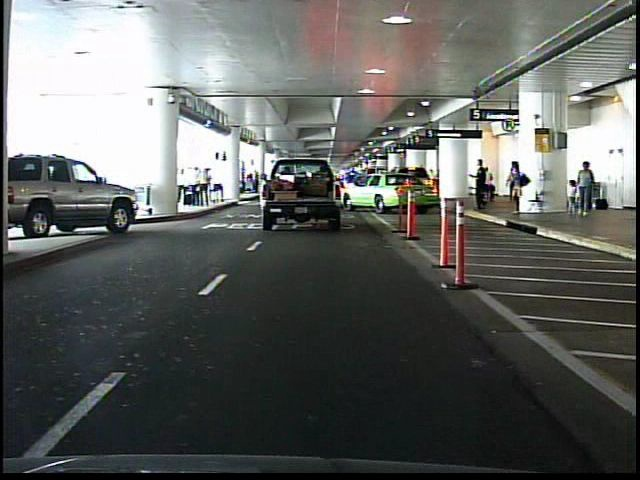person: (506, 155, 527, 217), (469, 155, 490, 214), (483, 160, 497, 210)
